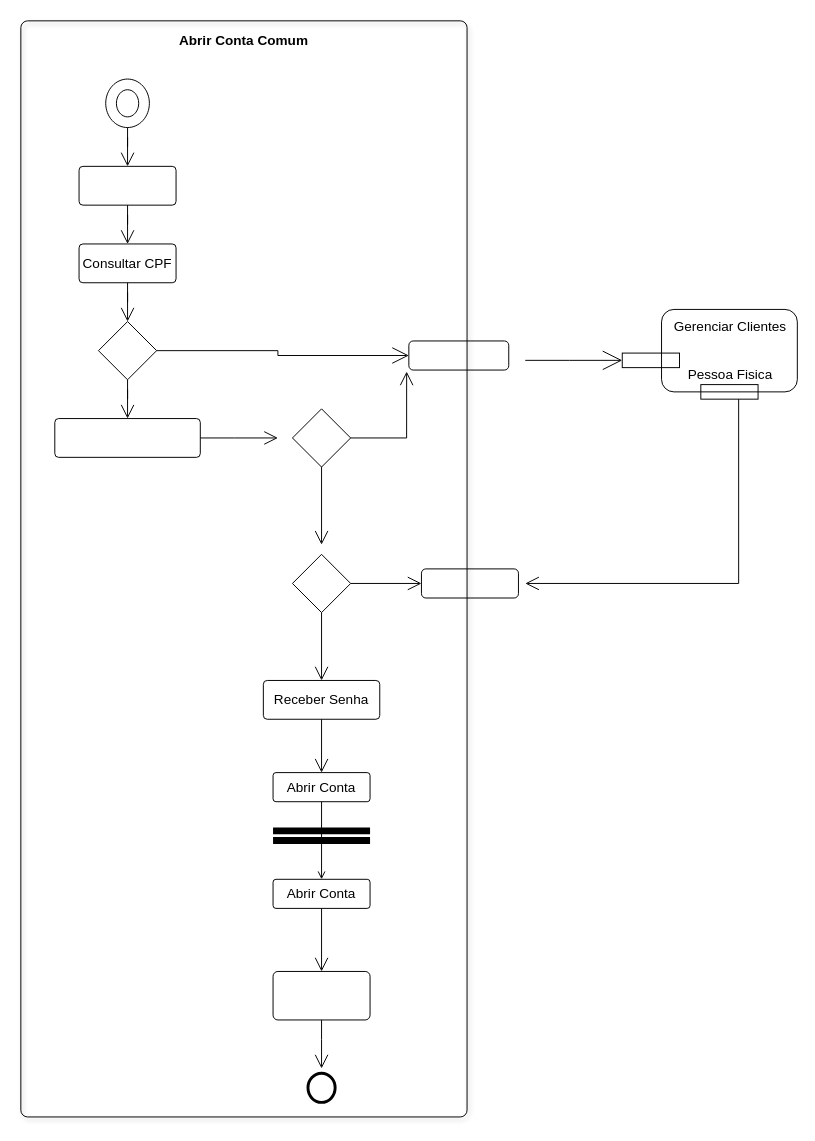
Some shapes in this 815 by 1141 pixel diagram are drawn without their labels. Here are the shapes that lost their labels. From the top down, the centre of each, then its label:
the point at 127,185: Receber CPF
the point at 127,437: Apresentar Cliente
the point at 321,995: Emitir Cartao da Conta
